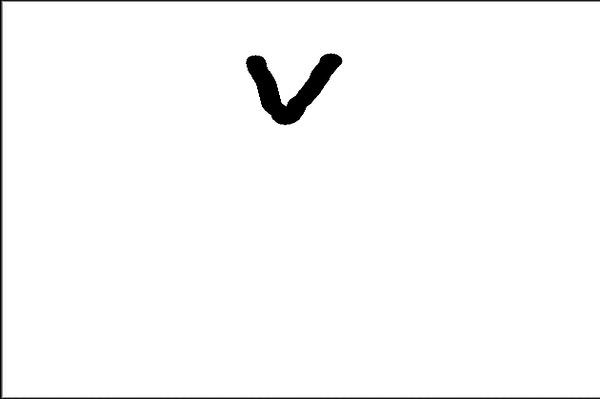V: (241, 36, 353, 132)
